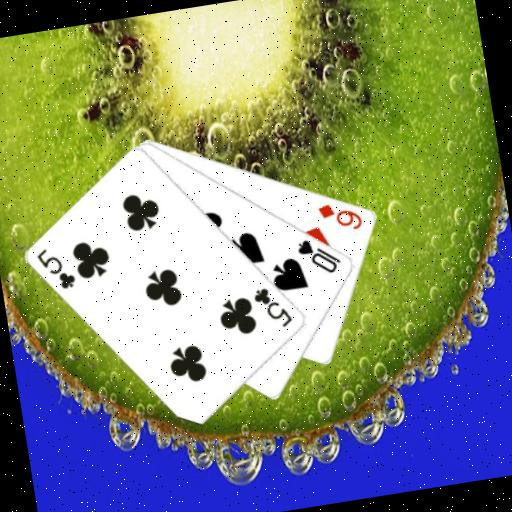10S: (293, 231, 345, 280)
5C: (249, 280, 296, 333), (32, 242, 79, 295)
6D: (314, 195, 366, 237)
